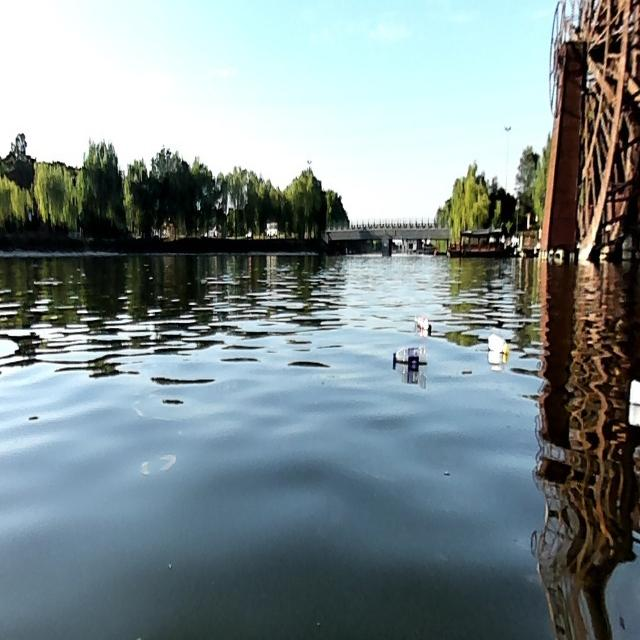bottle: (391, 340, 427, 365), (486, 327, 508, 353), (412, 308, 433, 334)
